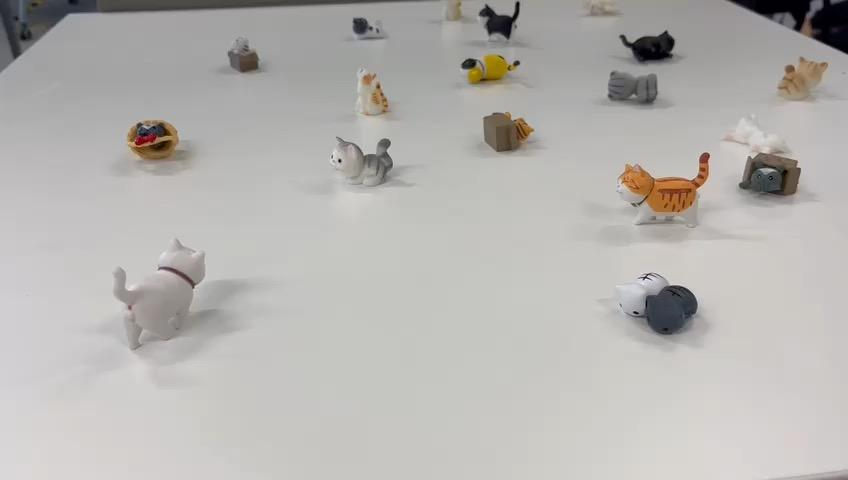pet: (598, 248, 742, 374), (113, 218, 214, 397), (610, 138, 722, 224), (761, 36, 848, 137), (321, 126, 404, 218), (596, 58, 687, 141), (463, 106, 557, 184), (123, 101, 201, 190), (323, 53, 407, 124), (738, 146, 814, 224), (618, 6, 713, 59), (453, 48, 555, 93), (213, 18, 278, 81), (476, 0, 555, 44), (338, 11, 411, 52)
